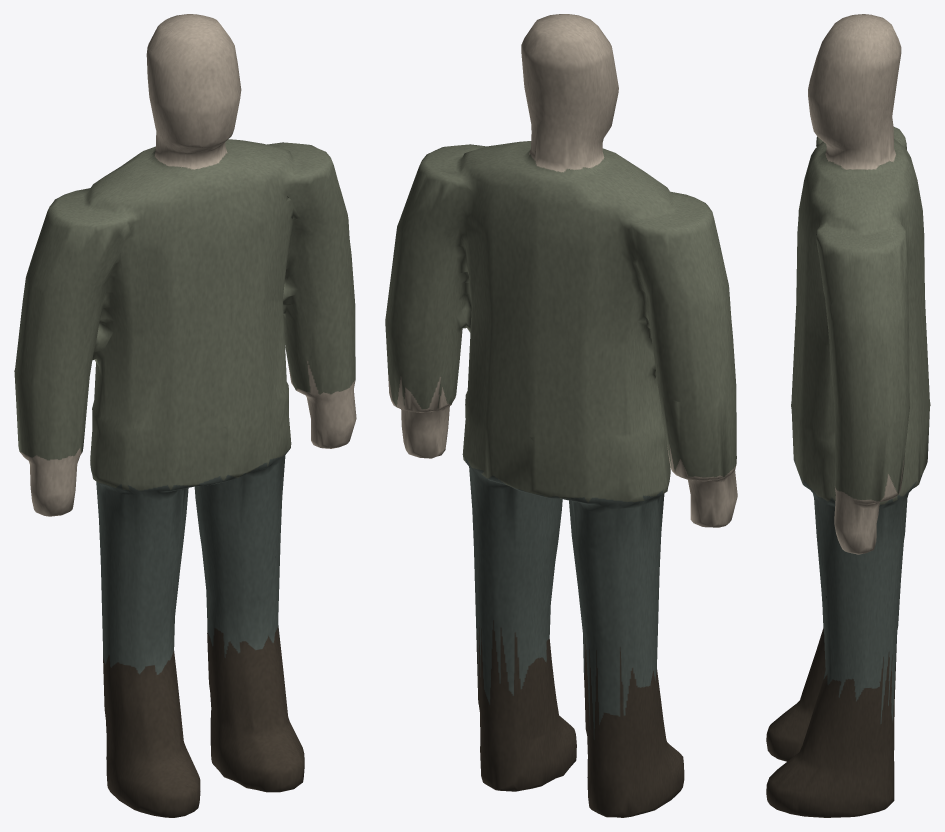
Rendered from faceless-caretaker.glb.
The picture shows the model from 3 angles, left to right: view 1: azimuth 30°, elevation 25°; view 2: azimuth 150°, elevation 25°; view 3: azimuth 270°, elevation 25°; orthographic projection. The views are drawn at different scales.
Visible parts, largest first — view 1: Faceless caretaker; view 2: Faceless caretaker; view 3: Faceless caretaker.
Boxes of the visible parts, <box> form: Faceless caretaker: <box>14,14,356,817</box>; Faceless caretaker: <box>385,14,737,817</box>; Faceless caretaker: <box>766,14,930,817</box>.
Bounding box in the file's own units: 0.8236 × 1.79 × 0.352.
1 material, 1 textured.
